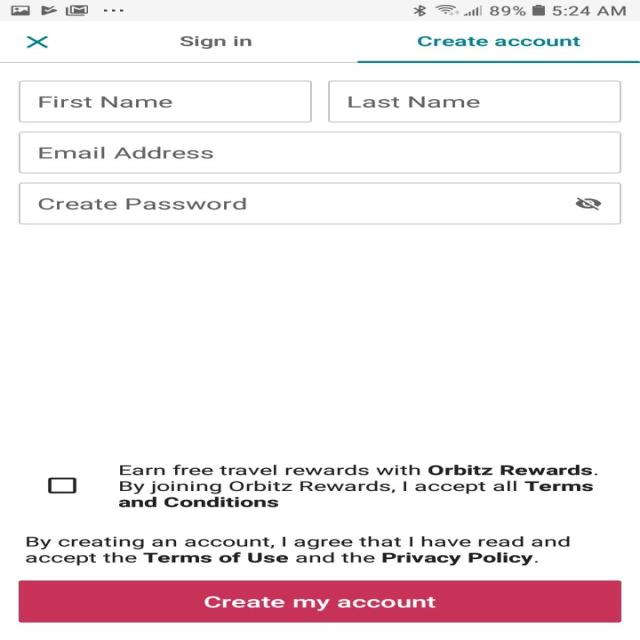EditText: (18, 182, 620, 225), (18, 131, 620, 173), (327, 80, 621, 122), (19, 80, 312, 122)
Icon: (574, 197, 601, 210), (26, 35, 49, 48)
Text: (118, 464, 598, 507), (25, 536, 570, 566), (38, 198, 246, 210), (38, 146, 214, 159), (417, 36, 580, 46), (39, 96, 172, 108), (348, 96, 480, 108), (180, 35, 252, 49)
TextButton: (18, 580, 620, 622)
